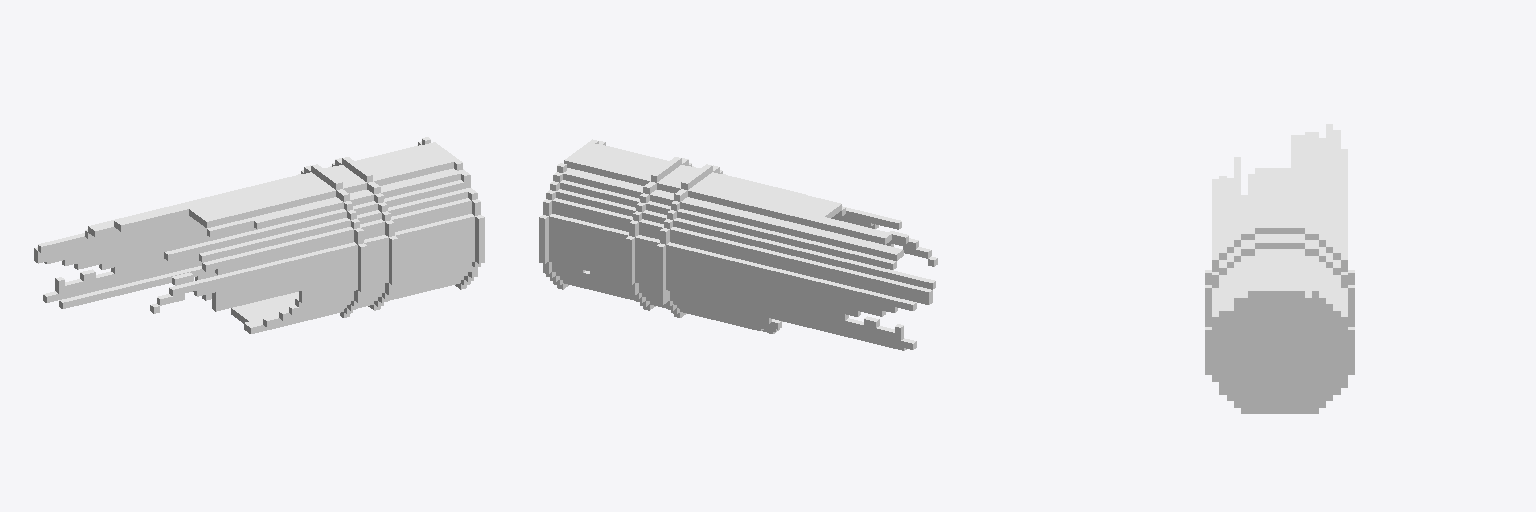
The model's file is broken_mast.obj.
The picture shows the model from 3 angles: view 1: azimuth 30°, elevation 25°; view 2: azimuth 150°, elevation 25°; view 3: azimuth 270°, elevation 25°; orthographic projection.
Size of the model in its own units: 62 by 20 by 21.